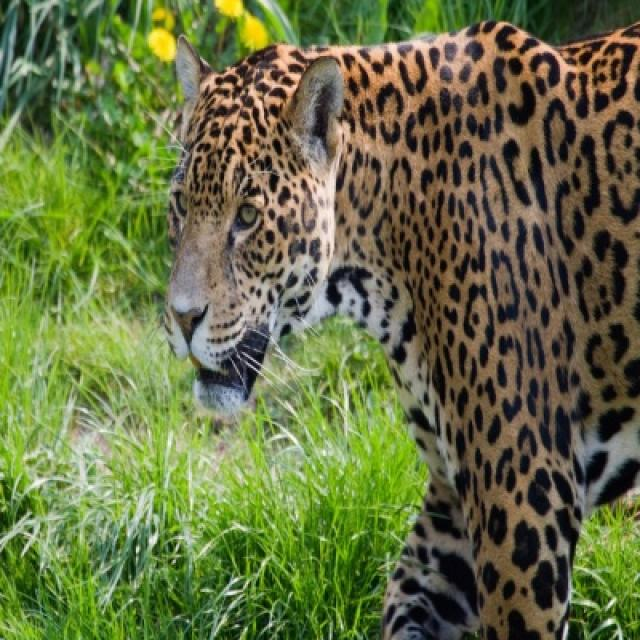Jaguar: (162, 19, 638, 638)
